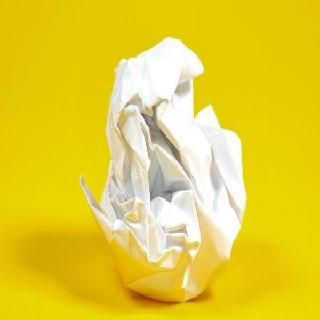8/可回收垃圾/纸: (79, 35, 248, 304)
